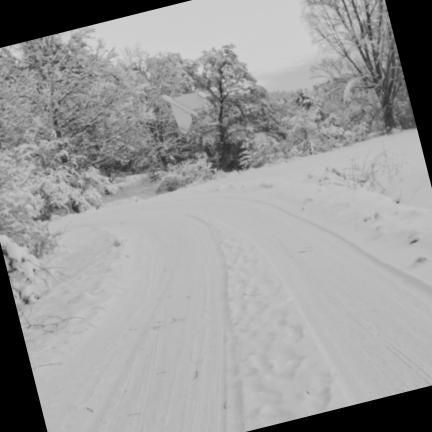Shahed: (161, 90, 206, 132)
